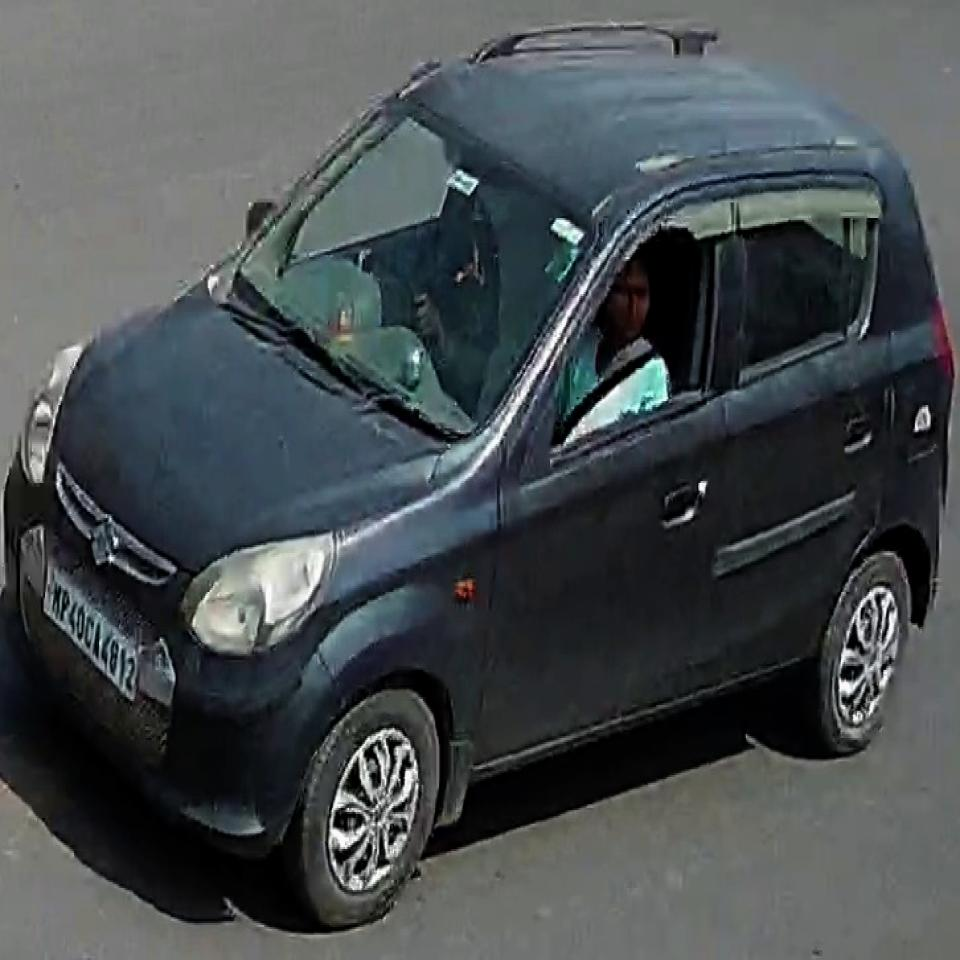head_light: (184, 525, 341, 659)
